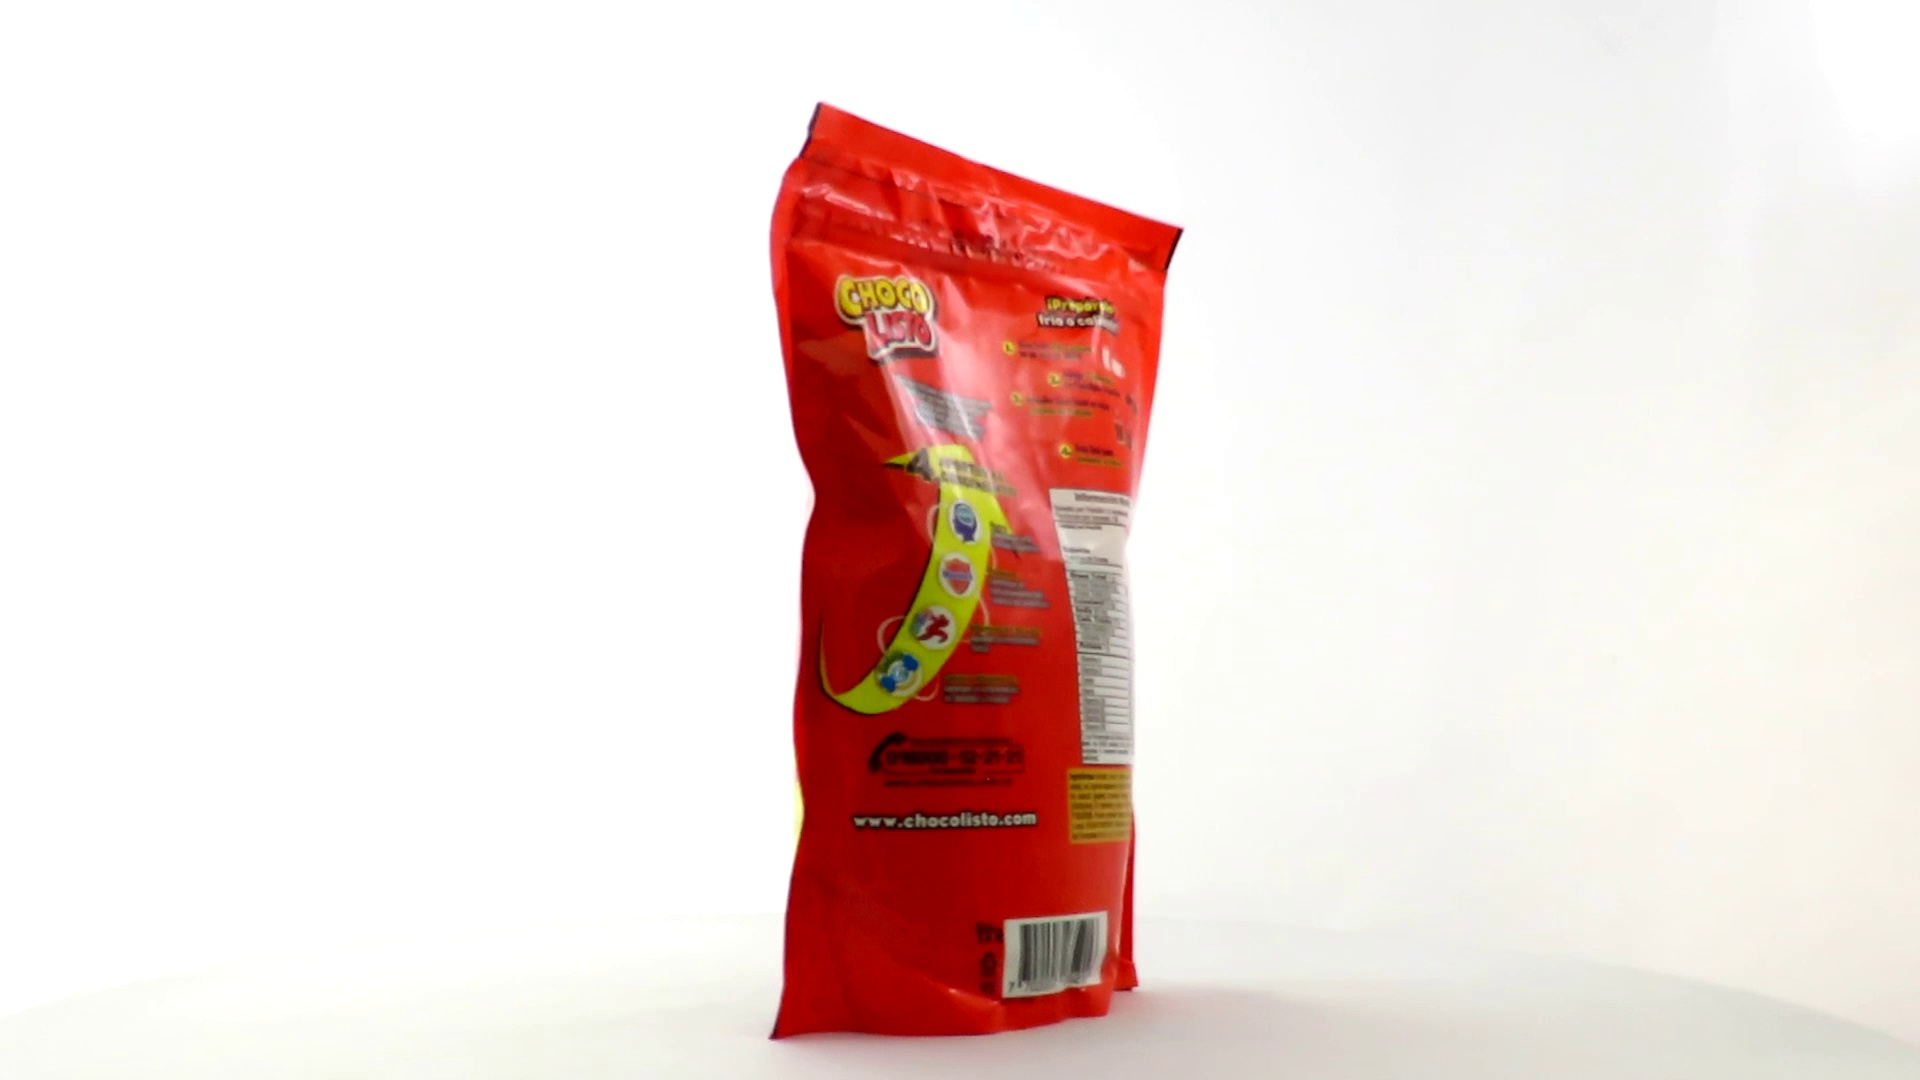COL0170103DYP36000: (764, 98, 1189, 1046)
